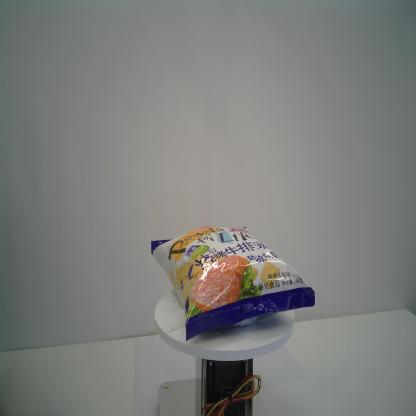Puffed Food: (150, 225, 316, 343)
